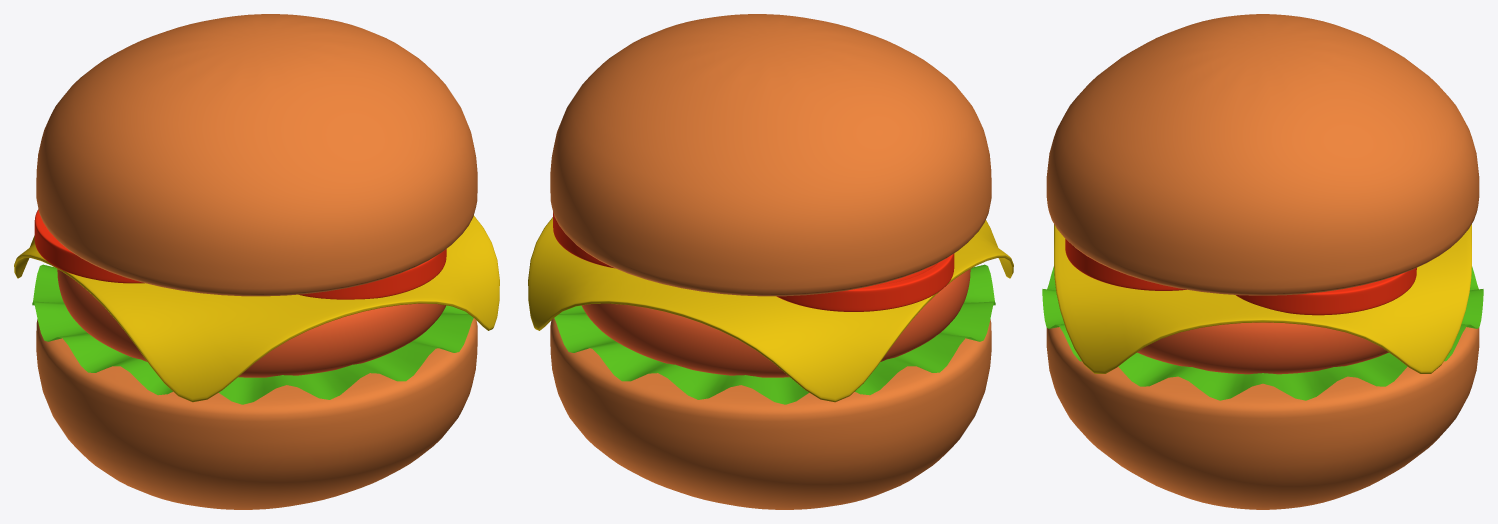
File: hamburger.fbx
3 renders of one model, left to right at view 1: azimuth 30°, elevation 25°; view 2: azimuth 150°, elevation 25°; view 3: azimuth 270°, elevation 25°, orthographic. The views are drawn at different scales.
Visible parts, largest first — view 1: Cylinder; view 2: Cylinder; view 3: Cylinder.
Part boxes in pixels (bbox=[...]): Cylinder: bbox=[14, 14, 499, 509]; Cylinder: bbox=[528, 14, 1013, 509]; Cylinder: bbox=[1042, 14, 1483, 509].
Size of the model in its own units: 199 by 215 by 199.
